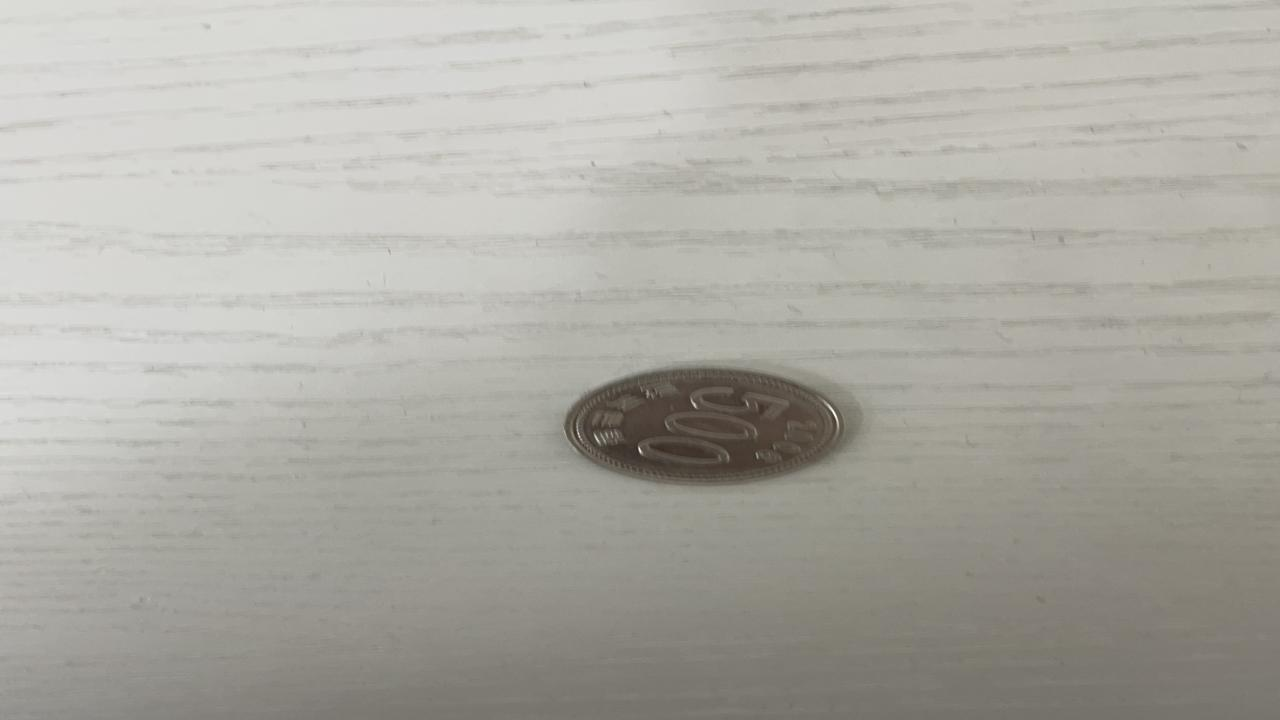coin: (560, 366, 856, 484)
